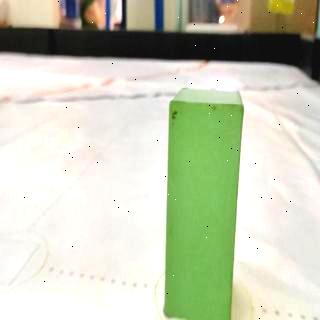greenbox: (162, 84, 247, 320)
